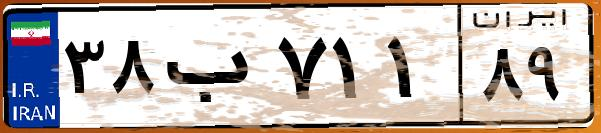1: (385, 28, 445, 110), (330, 28, 385, 110)
3: (57, 26, 110, 100)
7: (270, 28, 330, 110)
8: (475, 38, 525, 113), (110, 28, 158, 98)
9: (525, 38, 570, 115)
ب: (158, 20, 270, 120)
